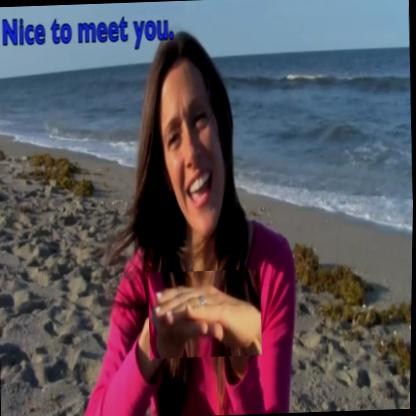NiceToMeetYou: (148, 269, 263, 359)
